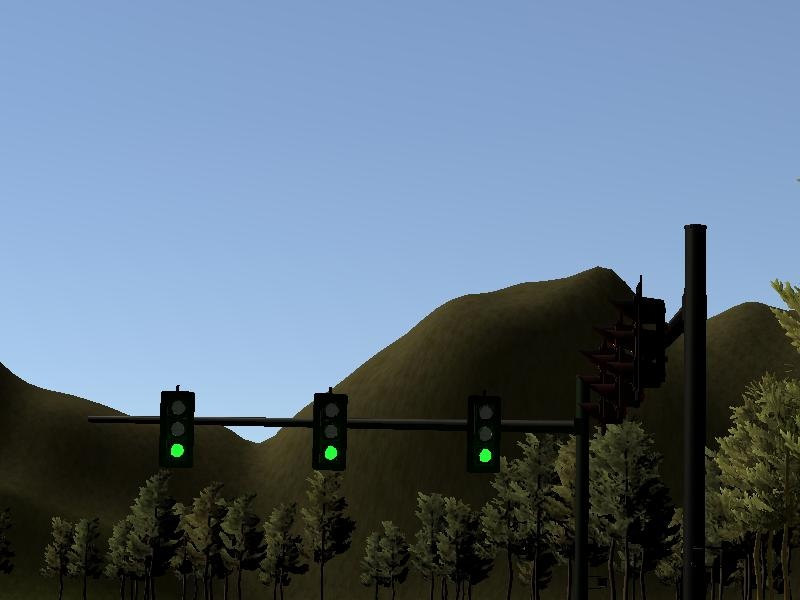GREEN: (160, 389, 195, 468), (312, 391, 347, 470), (467, 394, 502, 473)
